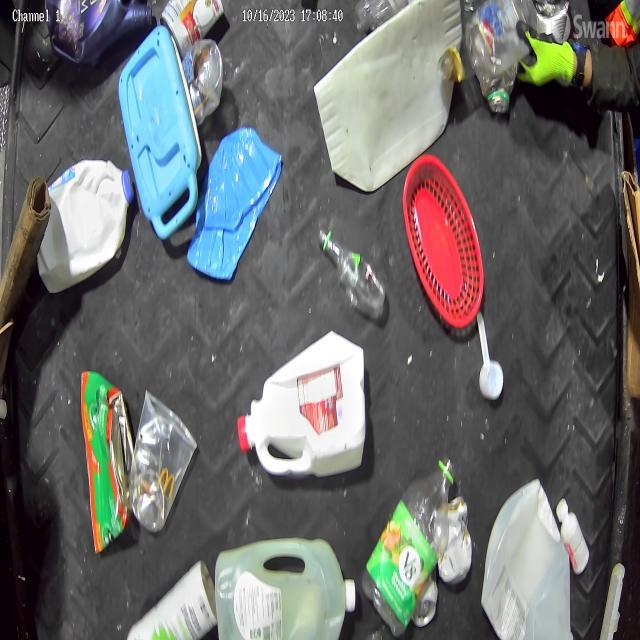can: (75, 366, 129, 542)
milk_jug: (234, 330, 368, 480), (478, 473, 572, 629), (215, 538, 351, 640), (33, 157, 134, 285)
non_white_jug: (44, 1, 159, 64)
plastic_bottle: (365, 454, 453, 622), (444, 1, 534, 84), (318, 220, 382, 314)
